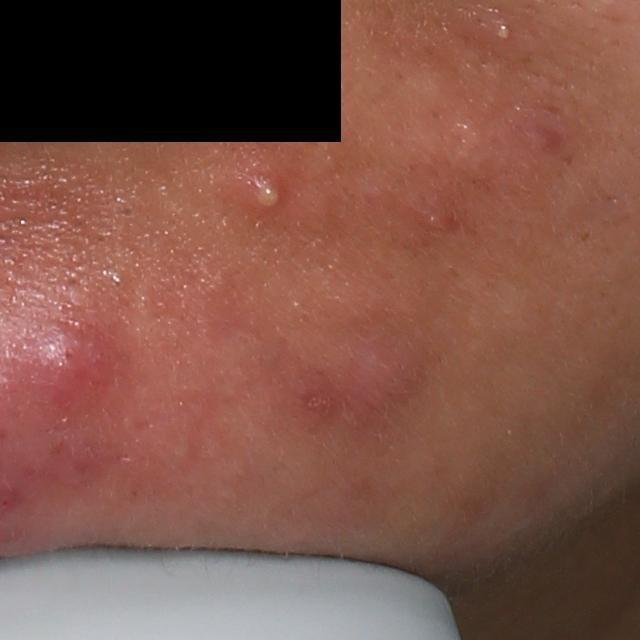comedo: (115, 200, 137, 223)
pustule: (234, 151, 300, 218), (486, 17, 516, 45)
